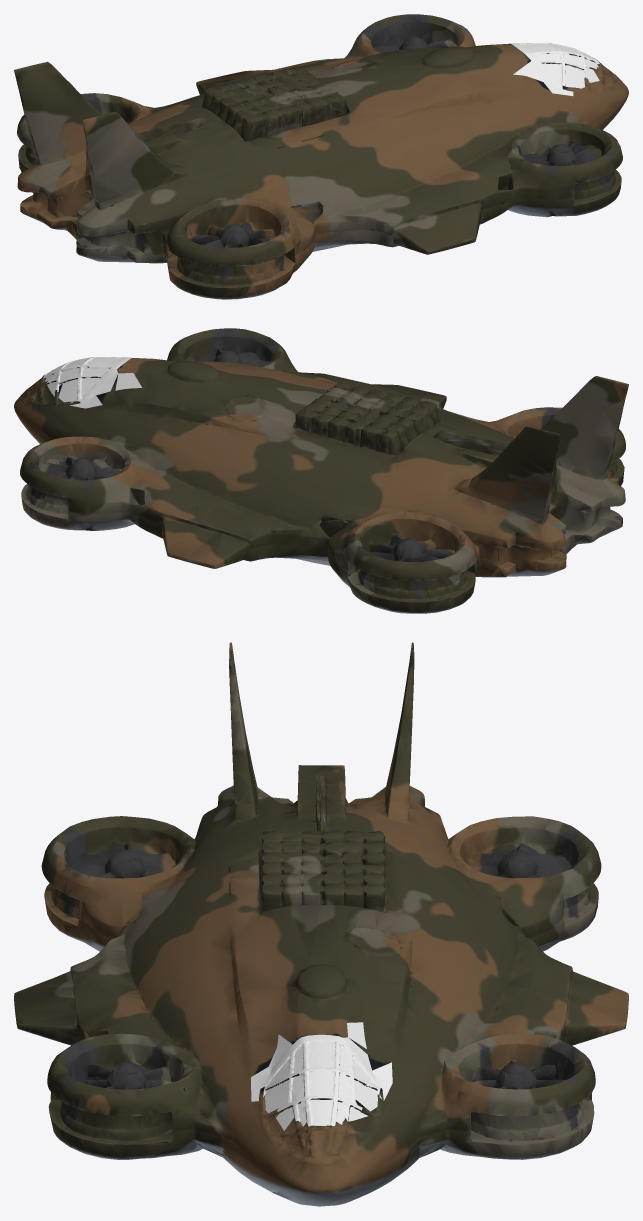
Rendered from fh_battle_bomber_t5.glb.
3 views of the same model, one above another, from view 1: azimuth 30°, elevation 25°; view 2: azimuth 150°, elevation 25°; view 3: azimuth 270°, elevation 25° (orthographic). The views are drawn at different scales.
Parts seen in each view (by area): view 1: fh_battle_bomber_t5; view 2: fh_battle_bomber_t5; view 3: fh_battle_bomber_t5.
Boxes of the visible parts, x1,y1,x2,y2 form: fh_battle_bomber_t5: (14,14,628,299); fh_battle_bomber_t5: (14,328,628,613); fh_battle_bomber_t5: (14,642,628,1206).
Size of the model in its own units: 1 by 0.3328 by 0.6963.
Materials: 2 (1 with a texture image).
